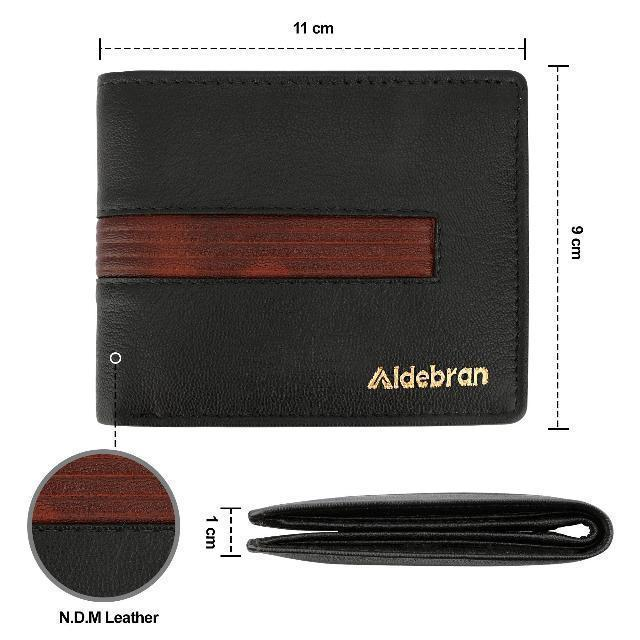wallet: (93, 64, 529, 428), (240, 490, 614, 568)
